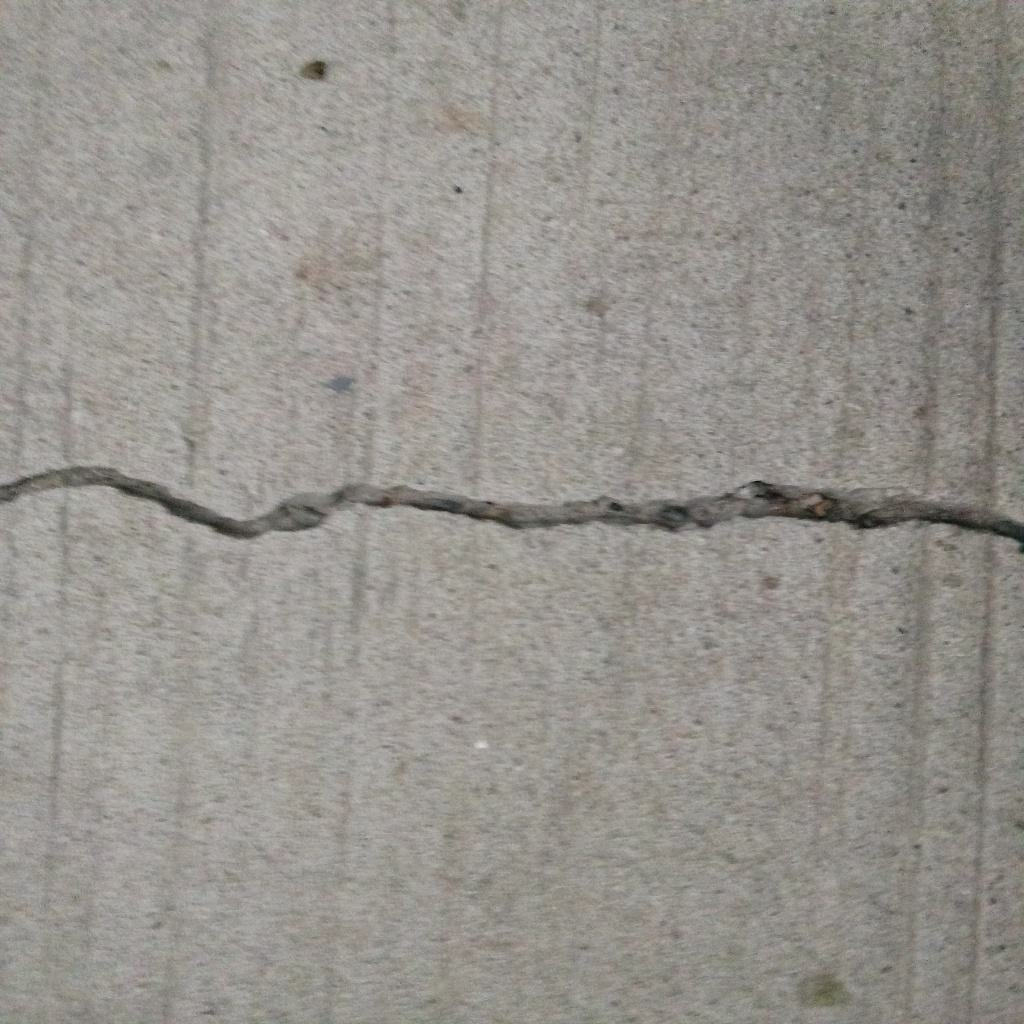Crack: (1, 461, 1024, 554)
